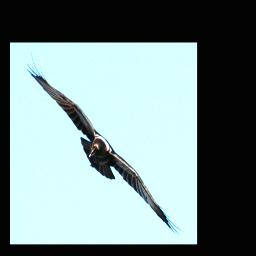Crow: (21, 49, 186, 238)
